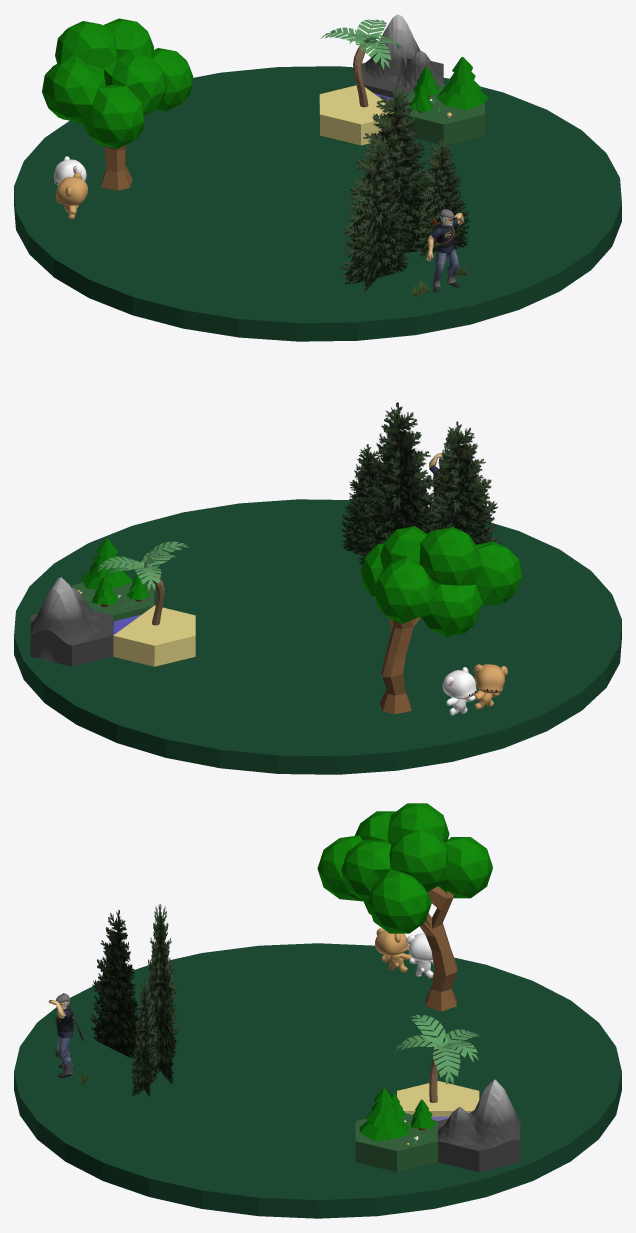
File: portfolioWorld.glb
The picture shows the model from 3 angles, top to bottom: view 1: azimuth 30°, elevation 25°; view 2: azimuth 150°, elevation 25°; view 3: azimuth 270°, elevation 25°; orthographic projection.
Parts seen in each view (by area): view 1: Circle.001, Cube.001, e_americanholly_1_3.001, e_americanholly_1_3.003, HexCell_Base_Forest.001, HexCell_Beach_Connect_4.001, HexCell_Mountain_1.001, e_americanholly_1_3.002, ShotgunDoubleBarrel.X_ShotgunDoubleBarrel.001, MESH_Mocha.001, MESH_Milk.001; view 2: Circle.001, Cube.001, e_americanholly_1_3.003, HexCell_Beach_Connect_4.001, HexCell_Mountain_1.001, e_americanholly_1_3.001, HexCell_Base_Forest.001, e_americanholly_1_3.002, MESH_Milk.001, MESH_Mocha.001; view 3: Circle.001, Cube.001, HexCell_Mountain_1.001, HexCell_Base_Forest.001, HexCell_Beach_Connect_4.001, e_americanholly_1_3.001, e_americanholly_1_3.003, e_americanholly_1_3.002, ShotgunDoubleBarrel.X_ShotgunDoubleBarrel.001, MESH_Mocha.001, MESH_Milk.001.
Boxes of the visible parts, left/top/right/bottom form: Circle.001: left=14, top=66, right=621, bottom=341; Cube.001: left=42, top=18, right=193, bottom=190; e_americanholly_1_3.001: left=340, top=134, right=409, bottom=290; e_americanholly_1_3.003: left=345, top=85, right=430, bottom=252; HexCell_Base_Forest.001: left=402, top=57, right=488, bottom=144; HexCell_Beach_Connect_4.001: left=319, top=19, right=402, bottom=145; HexCell_Mountain_1.001: left=362, top=14, right=443, bottom=98; e_americanholly_1_3.002: left=417, top=138, right=469, bottom=256; ShotgunDoubleBarrel.X_ShotgunDoubleBarrel.001: left=426, top=209, right=463, bottom=292; MESH_Mocha.001: left=55, top=173, right=88, bottom=219; MESH_Milk.001: left=53, top=156, right=86, bottom=185; Circle.001: left=14, top=499, right=621, bottom=774; Cube.001: left=360, top=526, right=521, bottom=714; e_americanholly_1_3.003: left=356, top=402, right=445, bottom=564; HexCell_Beach_Connect_4.001: left=97, top=541, right=195, bottom=666; HexCell_Mountain_1.001: left=30, top=577, right=113, bottom=666; e_americanholly_1_3.001: left=428, top=421, right=500, bottom=544; HexCell_Base_Forest.001: left=72, top=538, right=154, bottom=630; e_americanholly_1_3.002: left=341, top=444, right=381, bottom=553; MESH_Milk.001: left=442, top=667, right=476, bottom=715; MESH_Mocha.001: left=473, top=664, right=507, bottom=709; Circle.001: left=14, top=943, right=621, bottom=1218; Cube.001: left=317, top=803, right=492, bottom=1011; HexCell_Mountain_1.001: left=438, top=1079, right=520, bottom=1172; HexCell_Base_Forest.001: left=355, top=1088, right=437, bottom=1172; HexCell_Beach_Connect_4.001: left=394, top=1014, right=480, bottom=1120; e_americanholly_1_3.001: left=90, top=910, right=139, bottom=1058; e_americanholly_1_3.003: left=145, top=904, right=178, bottom=1084; e_americanholly_1_3.002: left=131, top=979, right=158, bottom=1096; ShotgunDoubleBarrel.X_ShotgunDoubleBarrel.001: left=48, top=993, right=83, bottom=1077; MESH_Mocha.001: left=375, top=928, right=410, bottom=972; MESH_Milk.001: left=406, top=933, right=433, bottom=978.
Bounding box in the file's own units: 12.78 × 4.72 × 12.78.
Materials: 32 (14 with a texture image).
